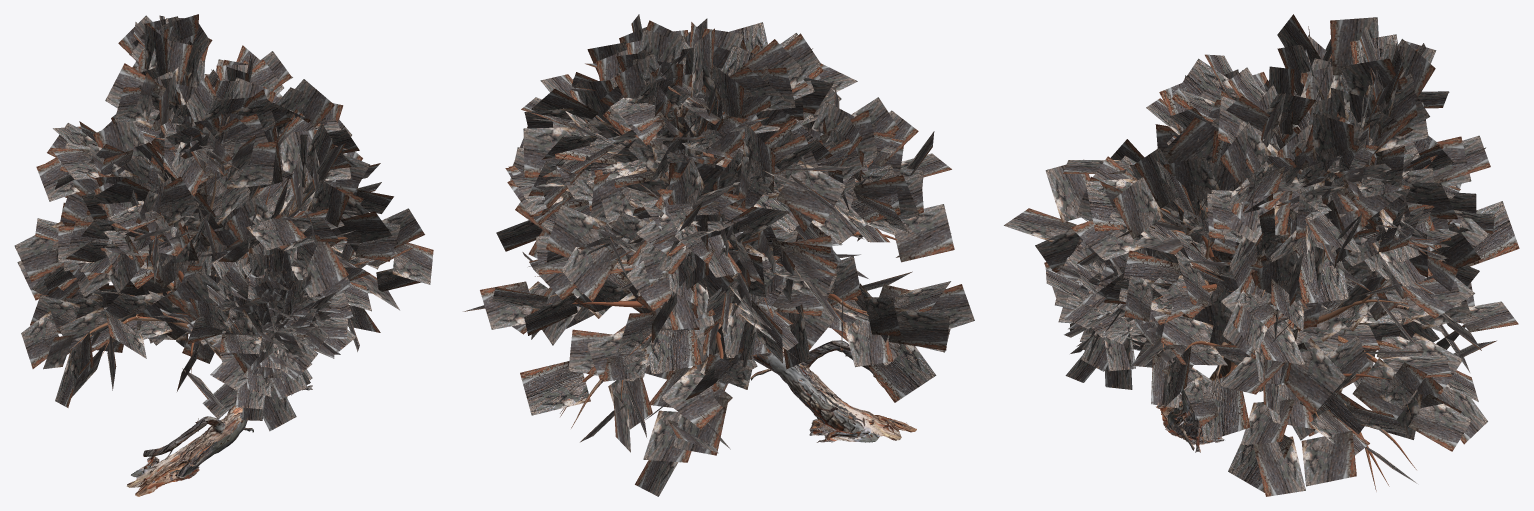
The model's file is mezquite.fbx.
3 renders of one model, left to right at view 1: azimuth 30°, elevation 25°; view 2: azimuth 150°, elevation 25°; view 3: azimuth 270°, elevation 25°, orthographic. The views are drawn at different scales.
Parts seen in each view (by area): view 1: leaves.002, leaves.003, GrafTree2HIGH; view 2: leaves.002, GrafTree2HIGH; view 3: leaves.002, leaves.003, GrafTree2HIGH.
Part boxes in pixels (box(x1,y1,x2,y2)): leaves.002: box(14, 14, 433, 408); leaves.003: box(187, 243, 356, 431); GrafTree2HIGH: box(57, 118, 377, 496); leaves.002: box(463, 14, 974, 496); GrafTree2HIGH: box(547, 112, 916, 442); leaves.002: box(1004, 14, 1519, 496); leaves.003: box(1045, 234, 1211, 408); GrafTree2HIGH: box(1082, 126, 1460, 491).
Bounding box in the file's own units: 652 × 624 × 652.
3 materials, 3 textured.
